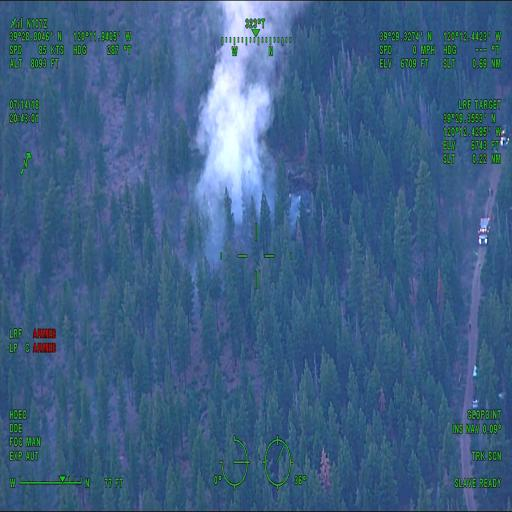smoke: (209, 58, 276, 164)
